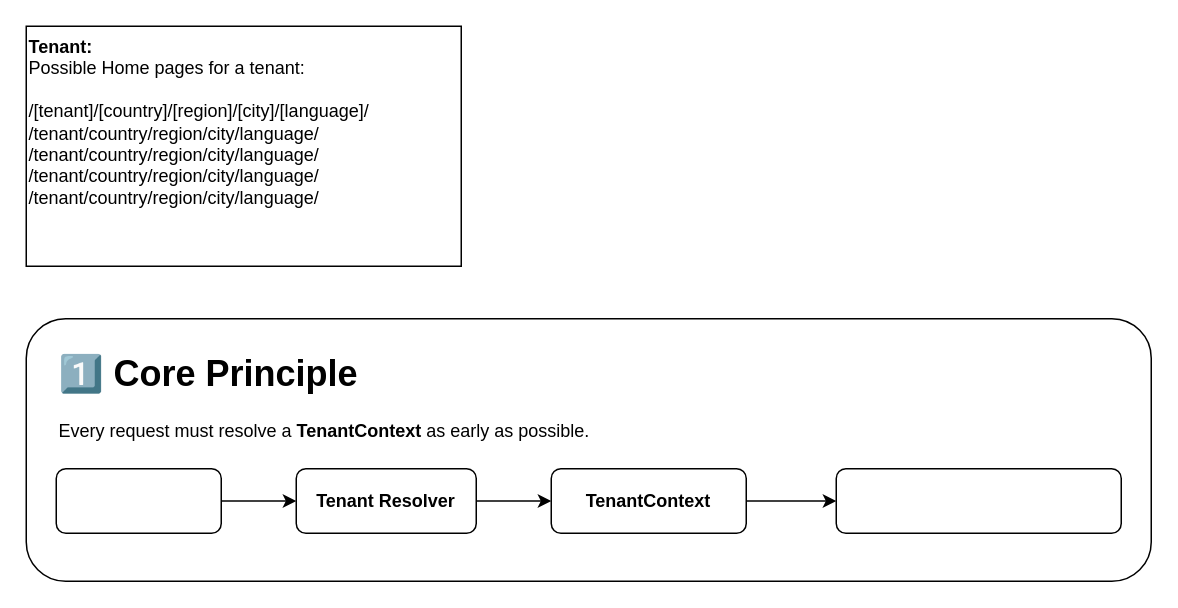
This 1178x608 diagram has some shape labels left out. Here are the shapes that lost their labels. From the top down, the centre of each, then its label:
At point 138,500: "Request".
At point 978,500: "NewsService / UI / Providers".
